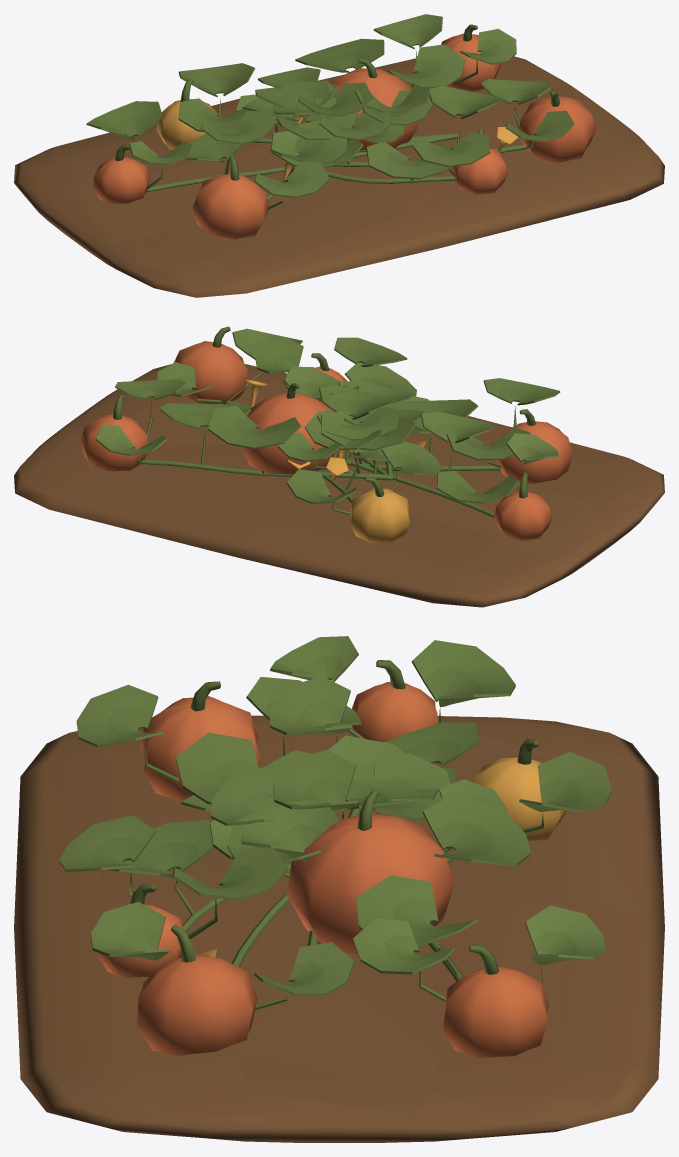
Rendered from prop_pumpkin_patch_a.glb.
3 renders of one model, top to bottom at view 1: azimuth 30°, elevation 25°; view 2: azimuth 150°, elevation 25°; view 3: azimuth 270°, elevation 25°, orthographic. The views are drawn at different scales.
Parts seen in each view (by area): view 1: prop_pumpkin_patch_a_mesh; view 2: prop_pumpkin_patch_a_mesh; view 3: prop_pumpkin_patch_a_mesh.
Boxes of the visible parts, x1=… form: prop_pumpkin_patch_a_mesh: x1=14, y1=14, x2=664, y2=297; prop_pumpkin_patch_a_mesh: x1=14, y1=326, x2=664, y2=607; prop_pumpkin_patch_a_mesh: x1=14, y1=636, x2=664, y2=1142.
Bounding box in the file's own units: 3.01 × 0.5791 × 2.
